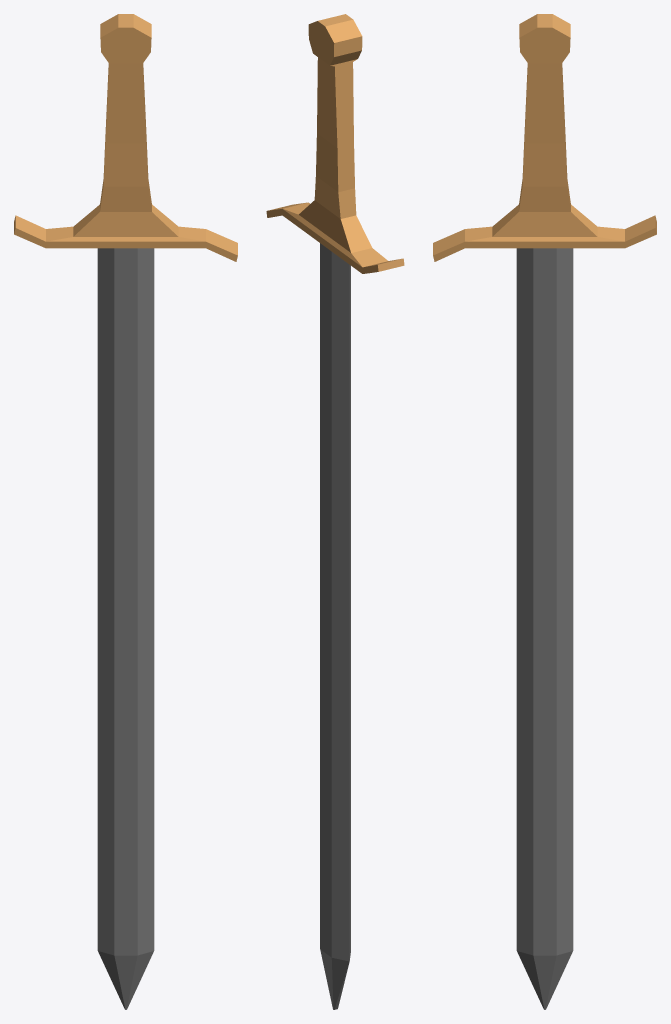
The model's file is Sword 2.fbx.
The picture shows the model from 3 angles, left to right: view 1: azimuth 90°, elevation 25°; view 2: azimuth 210°, elevation 25°; view 3: azimuth 270°, elevation 25°; orthographic projection.
Visible parts, largest first — view 1: Куб; view 2: Куб; view 3: Куб.
Part boxes in pixels (box(x1,y1,x2,y2)): Куб: box(14, 14, 237, 1009); Куб: box(266, 14, 404, 1009); Куб: box(433, 14, 656, 1009).
Size of the model in its own units: 0.1225 by 4.1 by 0.8428.
